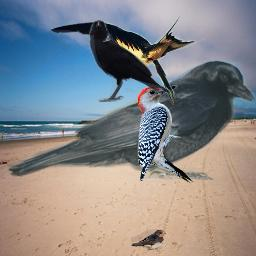Crow: (6, 59, 255, 180), (88, 19, 171, 102)
Swallow: (47, 13, 222, 105), (131, 229, 166, 251)
Woodpecker: (132, 81, 198, 191)
